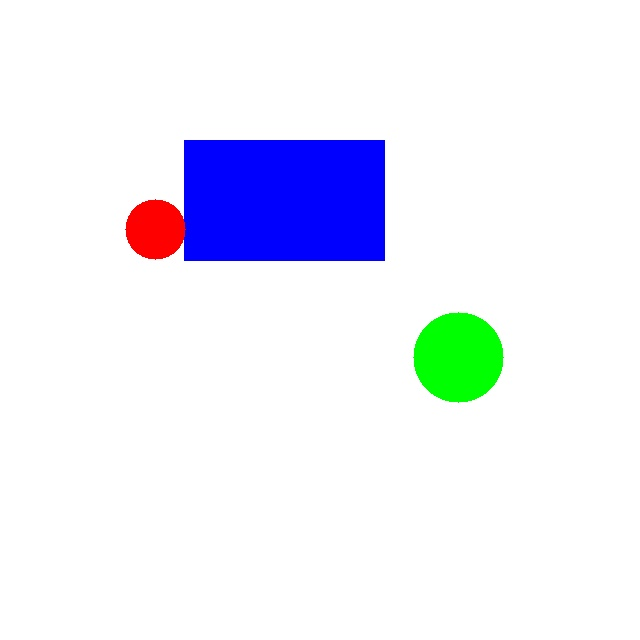cartao: (184, 140, 384, 260)
rosca_externa: (413, 312, 503, 402)
rosca_interna: (125, 199, 185, 259)
